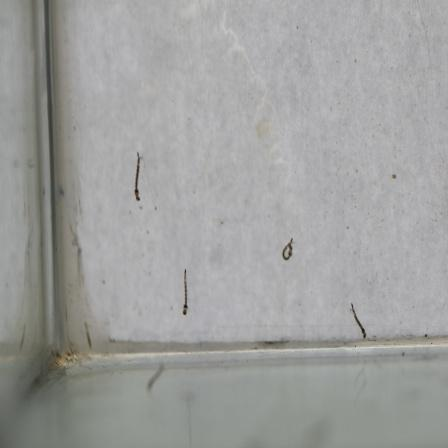Jentik-Nyamuk: (128, 147, 146, 204), (346, 300, 370, 340), (177, 267, 192, 317), (278, 237, 298, 265)
